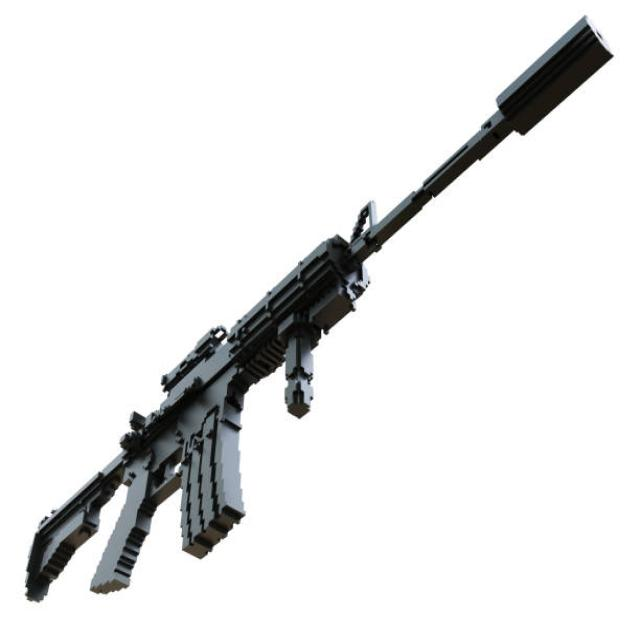rifle: (16, 7, 623, 615)
